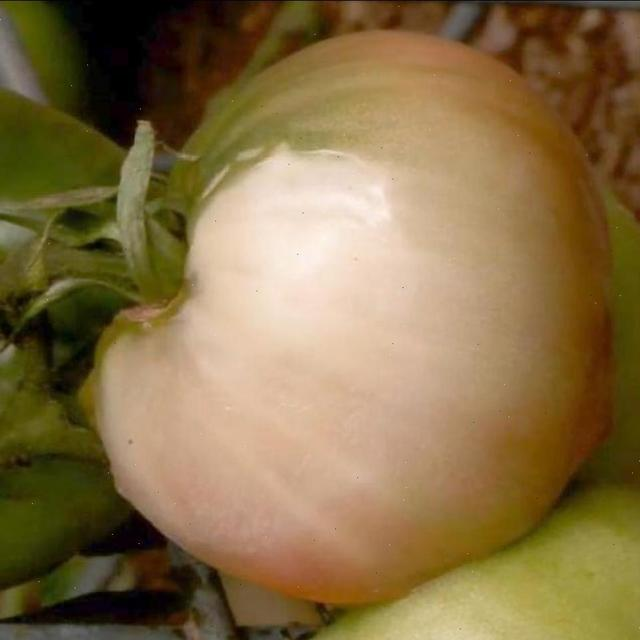Sunscald Fruit: (65, 89, 282, 370)
